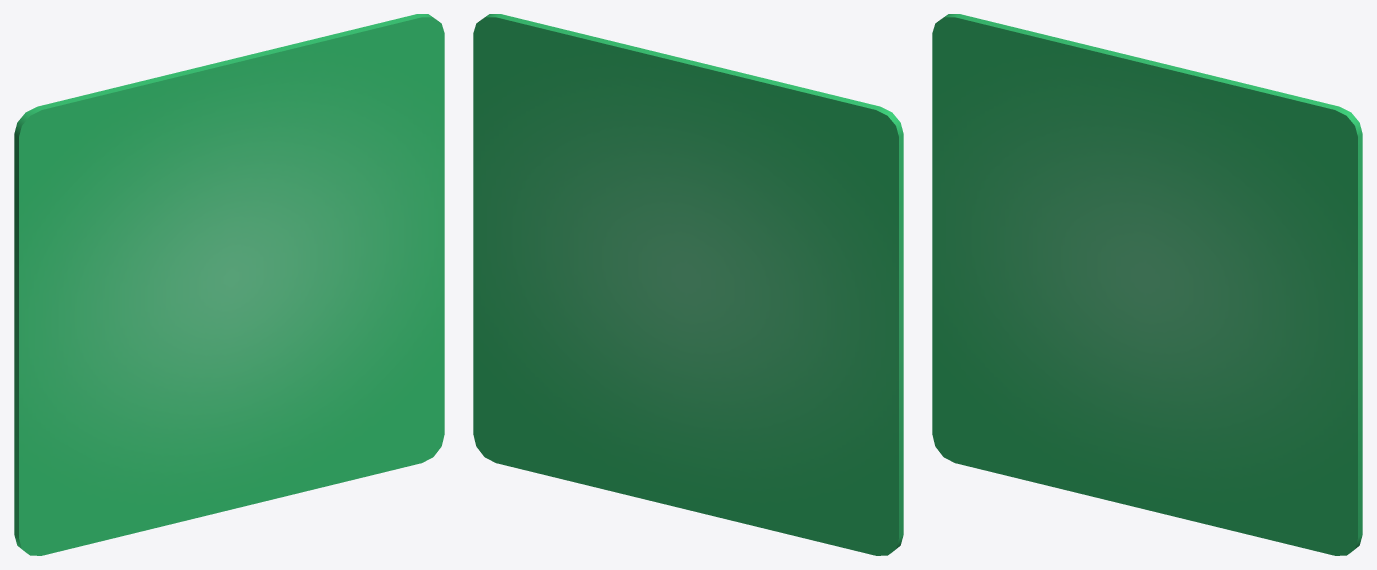
The model's file is rarity_bg_rare.glb.
3 views of the same model, side by side, from view 1: azimuth 30°, elevation 25°; view 2: azimuth 150°, elevation 25°; view 3: azimuth 330°, elevation 25° (orthographic).
Parts seen in each view (by area): view 1: rarity_bg_rare; view 2: rarity_bg_rare; view 3: rarity_bg_rare.
Boxes of the visible parts, x1=… form: rarity_bg_rare: x1=14, y1=14, x2=444, y2=555; rarity_bg_rare: x1=473, y1=14, x2=903, y2=555; rarity_bg_rare: x1=932, y1=14, x2=1362, y2=555.
Bounding box in the file's own units: 1 × 1 × 0.0187.
1 material, 1 textured.
